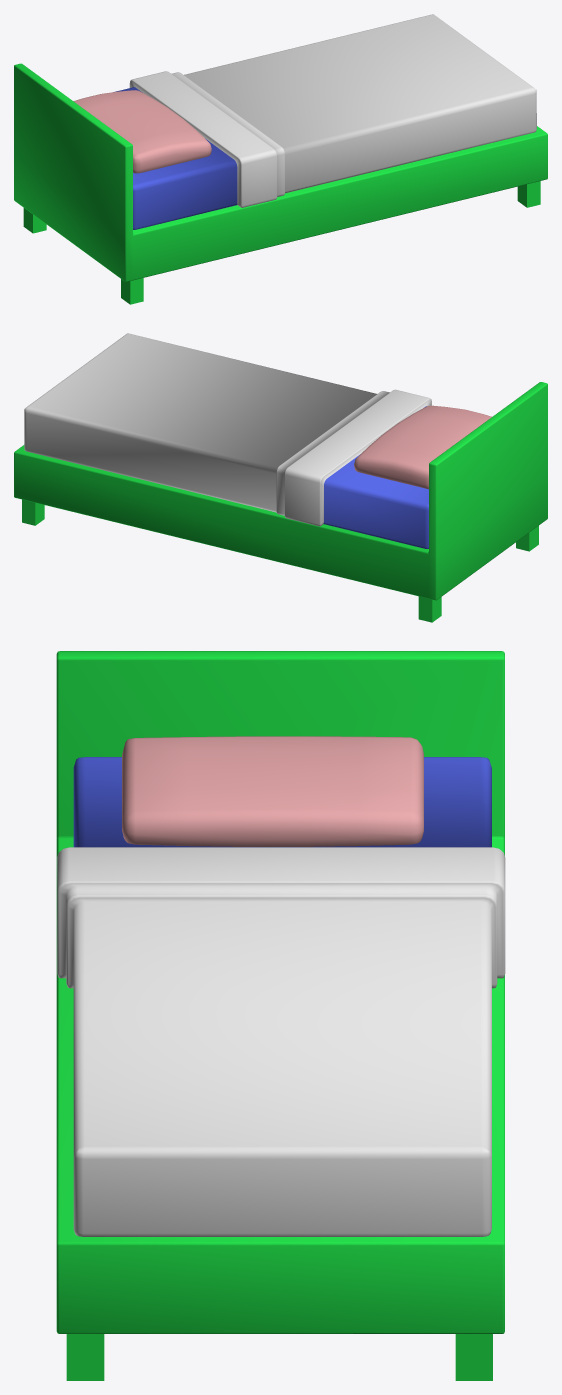
The model's file is bed.fbx.
The picture shows the model from 3 angles, top to bottom: view 1: azimuth 30°, elevation 25°; view 2: azimuth 150°, elevation 25°; view 3: azimuth 270°, elevation 25°; orthographic projection. The views are drawn at different scales.
Visible parts, largest first — view 1: bed; view 2: bed; view 3: bed.
Part boxes in pixels (x1=…): bed: x1=14, y1=14, x2=547, y2=304; bed: x1=14, y1=333, x2=547, y2=622; bed: x1=56, y1=651, x2=505, y2=1380.
Size of the model in its own units: 351 by 128 by 161.
